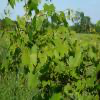grape leaf: (21, 53, 38, 73), (27, 70, 39, 89), (56, 42, 70, 58), (42, 4, 56, 17), (1, 16, 13, 30), (57, 25, 69, 38), (15, 37, 29, 48), (32, 16, 42, 31), (28, 0, 39, 13), (75, 80, 86, 91), (50, 12, 59, 25), (49, 92, 62, 99), (59, 10, 67, 20)
